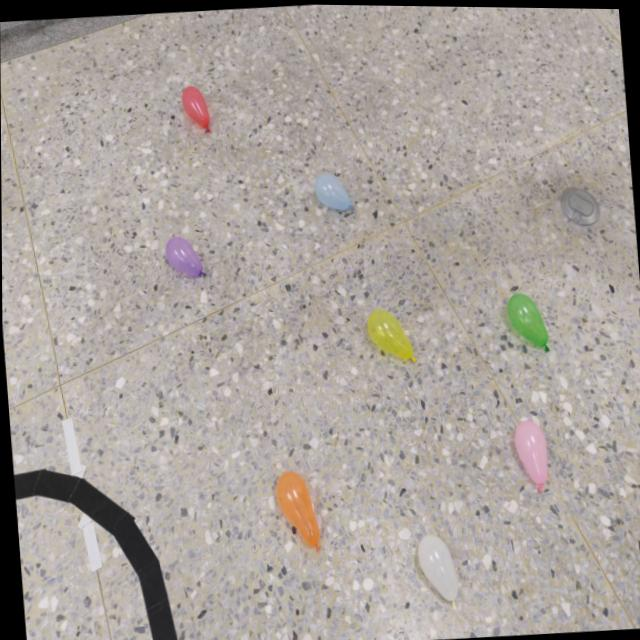other: (274, 468, 321, 551), (416, 530, 460, 609), (364, 304, 417, 365), (504, 288, 550, 353), (511, 415, 548, 493), (163, 233, 206, 279), (312, 169, 355, 214)
red: (180, 83, 211, 132)
